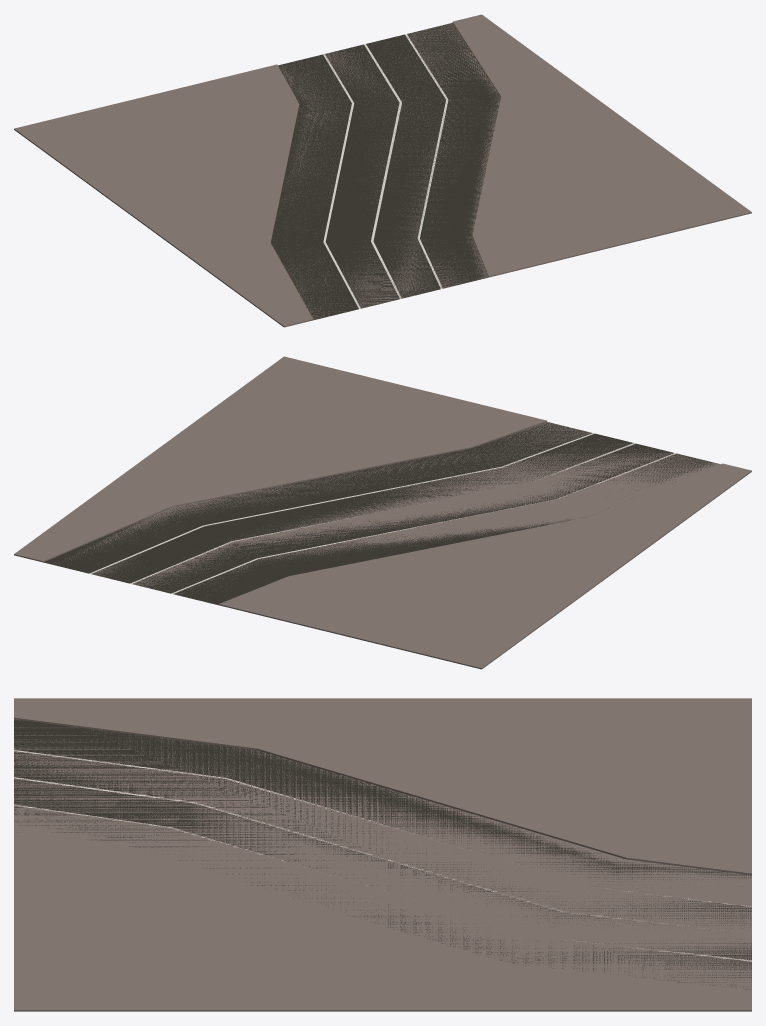
File: Env_2lane_CurveB.fbx
The picture shows the model from 3 angles, top to bottom: view 1: azimuth 30°, elevation 25°; view 2: azimuth 150°, elevation 25°; view 3: azimuth 270°, elevation 25°; orthographic projection. The views are drawn at different scales.
Visible parts, largest first — view 1: Env_2lane_CurveB; view 2: Env_2lane_CurveB; view 3: Env_2lane_CurveB.
Part boxes in pixels (<box>): Env_2lane_CurveB: <box>14,14,751,327</box>; Env_2lane_CurveB: <box>14,356,751,669</box>; Env_2lane_CurveB: <box>14,698,751,1011</box>.
Bounding box in the file's own units: 4000 × 10 × 4000.
